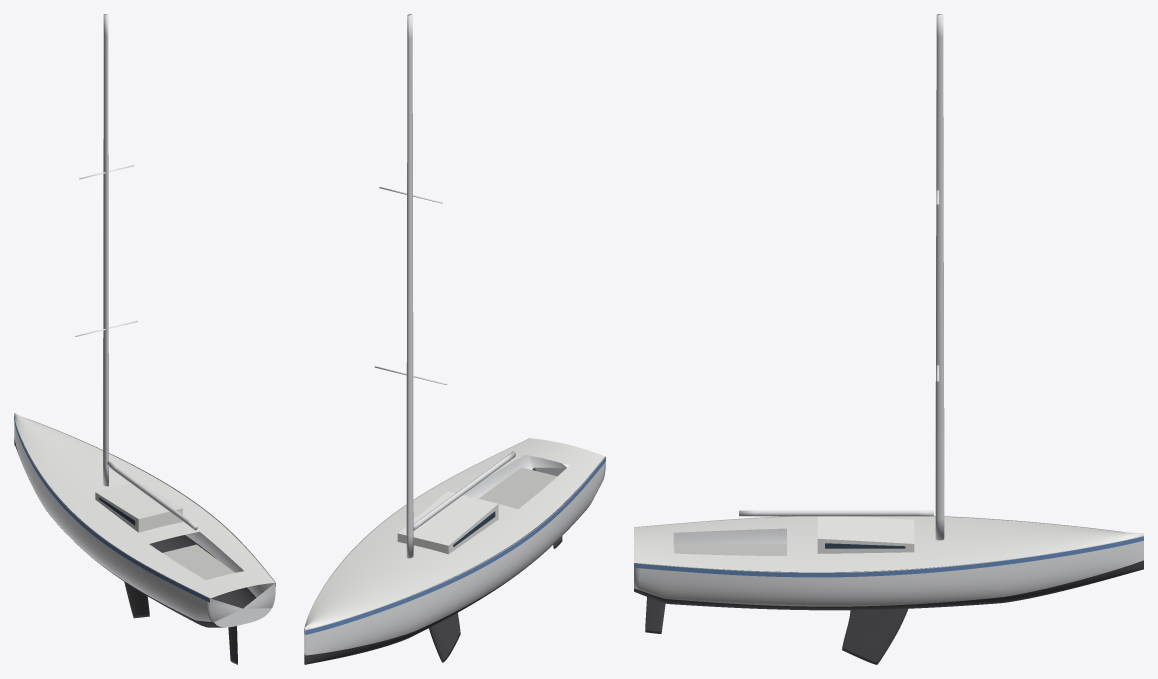
File: credit_agricole.glb
3 renders of one model, left to right at view 1: azimuth 30°, elevation 25°; view 2: azimuth 150°, elevation 25°; view 3: azimuth 270°, elevation 25°, orthographic. The views are drawn at different scales.
Visible parts, largest first — view 1: pont, coque, mat, rouf, fond, cockpit, bande, pivot_bome, app_quille; view 2: pont, coque, mat, rouf, cockpit, bande, fond, app_quille, pivot_bome; view 3: coque, pont, mat, rouf, fond, bande, app_quille, cockpit, pivot_bome.
Boxes of the visible parts, x1=… form: pont: x1=14, y1=412, x2=274, y2=598; coque: x1=14, y1=417, x2=275, y2=627; mat: x1=103, y1=14, x2=108, y2=486; rouf: x1=95, y1=481, x2=182, y2=532; fond: x1=14, y1=438, x2=256, y2=627; cockpit: x1=163, y1=544, x2=234, y2=580; bande: x1=14, y1=416, x2=275, y2=602; pivot_bome: x1=107, y1=461, x2=197, y2=530; app_quille: x1=124, y1=582, x2=149, y2=618; pont: x1=304, y1=438, x2=604, y2=629; coque: x1=304, y1=438, x2=605, y2=655; mat: x1=406, y1=14, x2=413, y2=558; rouf: x1=397, y1=491, x2=498, y2=554; cockpit: x1=478, y1=467, x2=556, y2=508; bande: x1=304, y1=457, x2=605, y2=634; fond: x1=304, y1=467, x2=587, y2=664; app_quille: x1=429, y1=576, x2=460, y2=662; pivot_bome: x1=413, y1=451, x2=515, y2=530; coque: x1=634, y1=515, x2=1143, y2=606; pont: x1=634, y1=516, x2=1143, y2=572; mat: x1=935, y1=14, x2=944, y2=540; rouf: x1=817, y1=516, x2=914, y2=553; fond: x1=634, y1=560, x2=1143, y2=610; bande: x1=634, y1=536, x2=1143, y2=577; app_quille: x1=842, y1=608, x2=908, y2=664; cockpit: x1=675, y1=543, x2=786, y2=568; pivot_bome: x1=739, y1=510, x2=933, y2=516.
Size of the model in its own units: 4.56 by 23.92 by 17.
